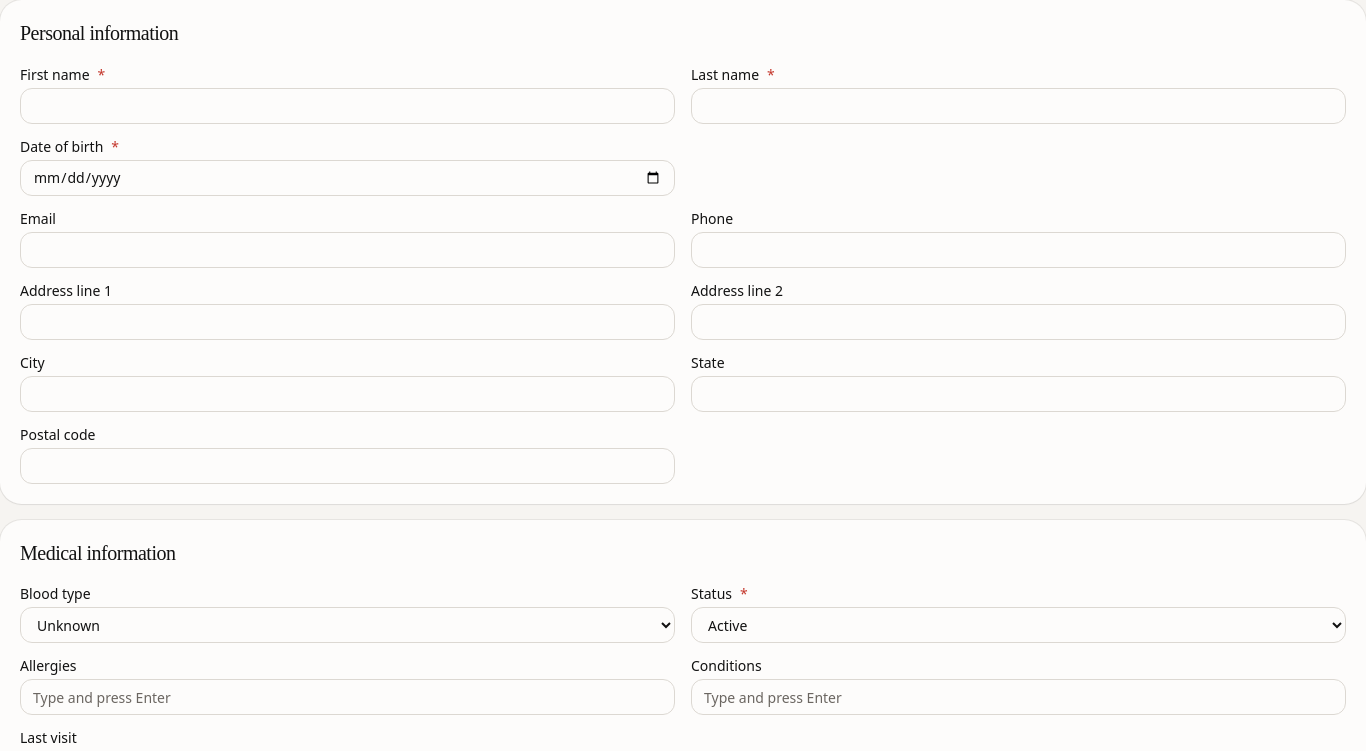
Scenario: PatientForm (create) › Date of birth "1899-12-31" shows "Date of birth must be after 1900" on blur
Type "1899-12-31" into the date field labelled "Date of birth *" at (348, 178), box x1=20 y1=160 x2=675 y2=196
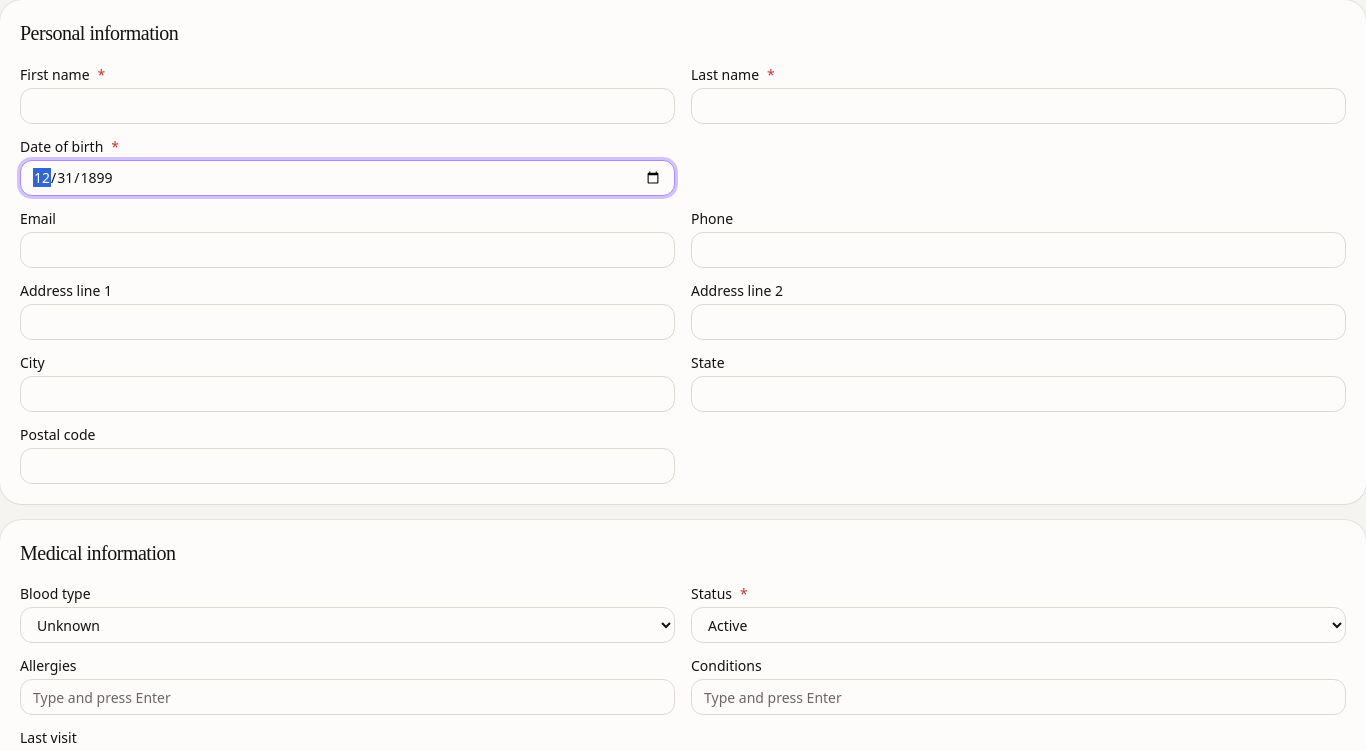
Press Tab
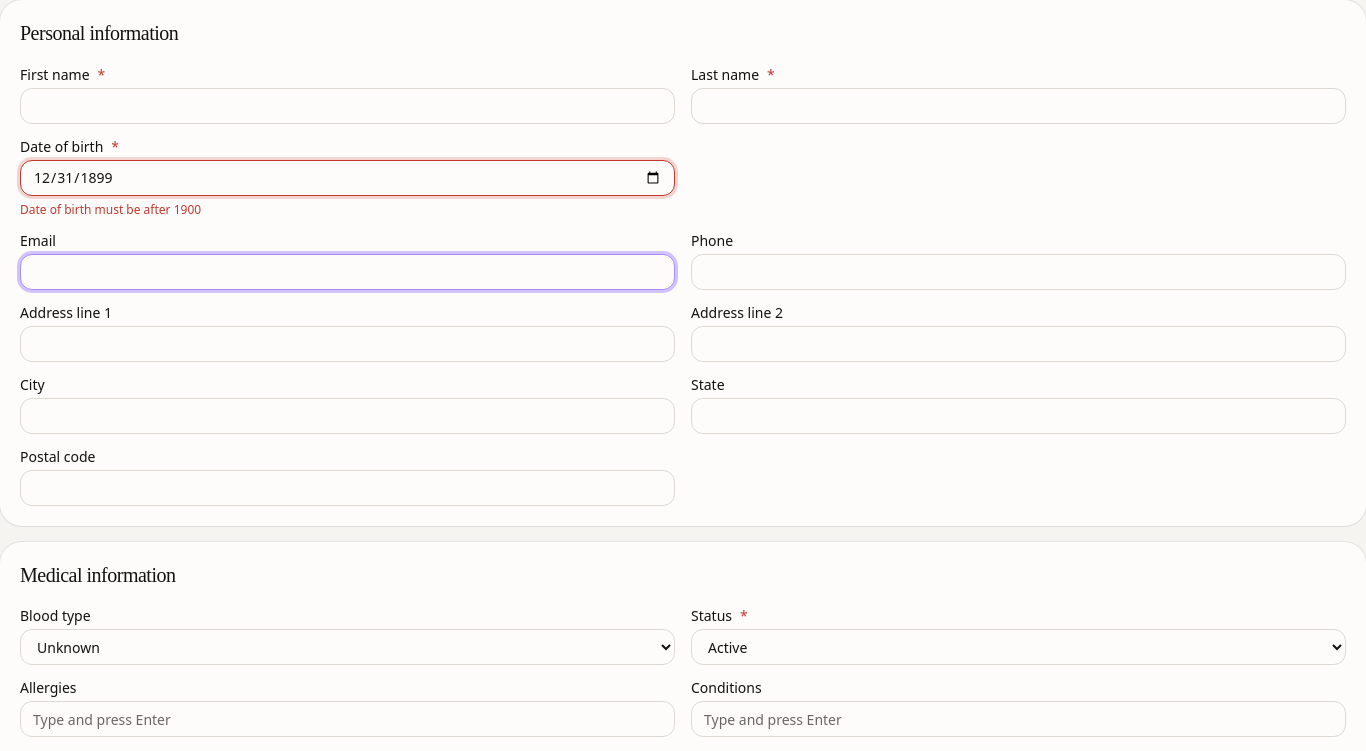
Now the text "Date of birth must be after 1900" is shown, box x1=20 y1=200 x2=201 y2=218
